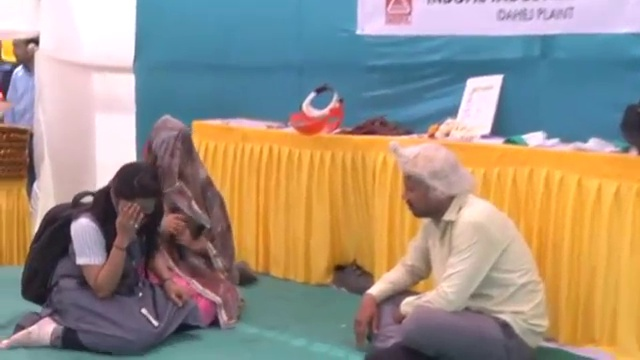helmet_off: (396, 146, 468, 230), (95, 157, 162, 229), (144, 123, 196, 193), (7, 29, 40, 75)
person: (351, 149, 558, 354), (4, 160, 199, 353), (135, 117, 235, 331), (0, 29, 40, 126)
